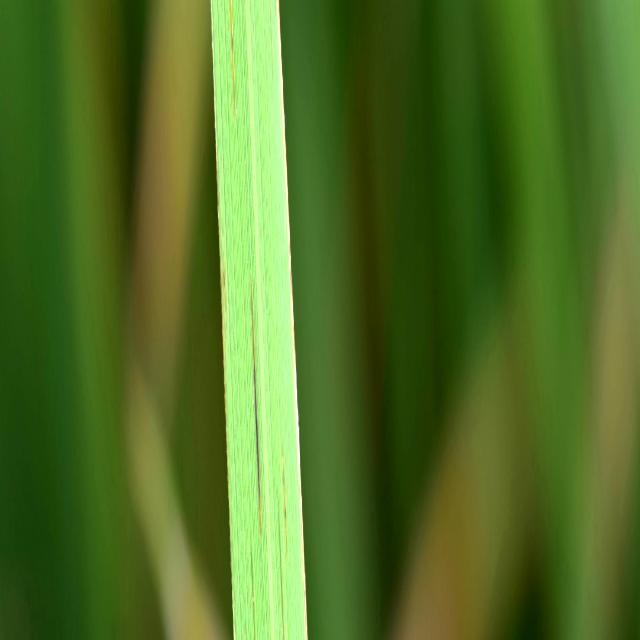BLS: (277, 0, 308, 640), (215, 130, 229, 512), (250, 280, 261, 531), (277, 489, 285, 640), (229, 1, 236, 119), (250, 531, 256, 640), (282, 453, 287, 555)
